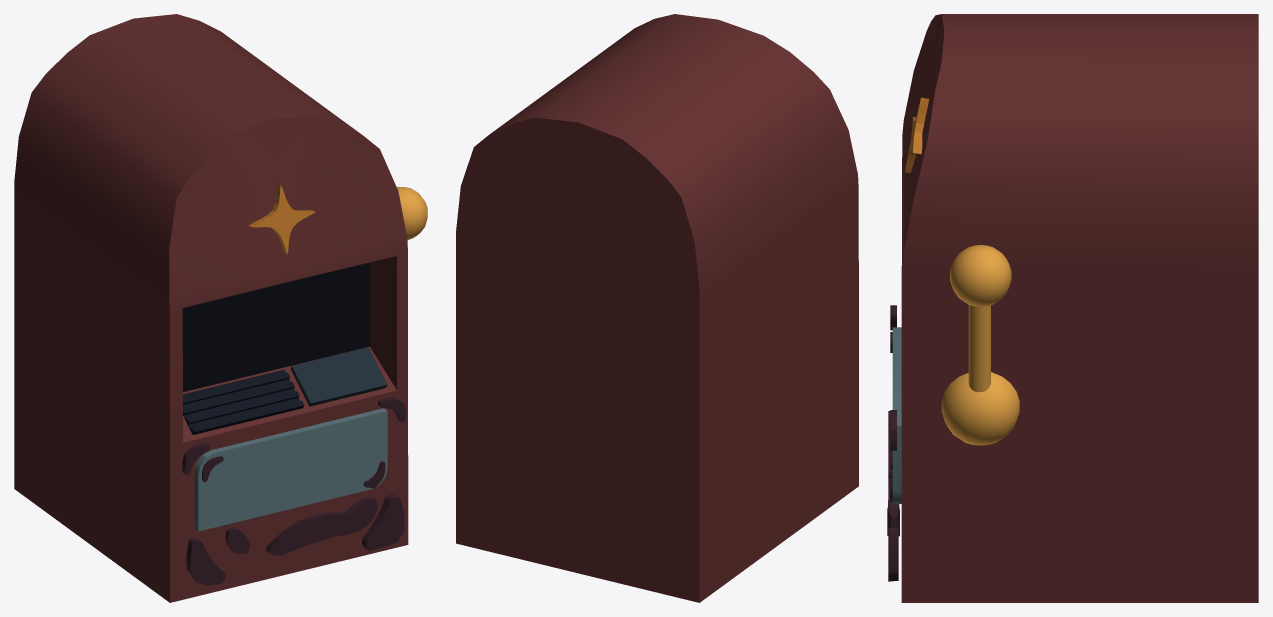
The model's file is SM_PrizeDispenser 1.fbx.
The picture shows the model from 3 angles, left to right: view 1: azimuth 30°, elevation 25°; view 2: azimuth 150°, elevation 25°; view 3: azimuth 270°, elevation 25°; orthographic projection. The views are drawn at different scales.
Parts seen in each view (by area): view 1: SM_PrizeDispenser; view 2: SM_PrizeDispenser; view 3: SM_PrizeDispenser.
Part boxes in pixels (bbox=[...]): SM_PrizeDispenser: bbox=[14, 14, 427, 602]; SM_PrizeDispenser: bbox=[456, 14, 858, 602]; SM_PrizeDispenser: bbox=[887, 14, 1258, 602].
Size of the model in its own units: 130 by 189 by 126.
